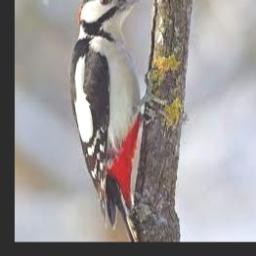Woodpecker: (69, 0, 161, 242)
